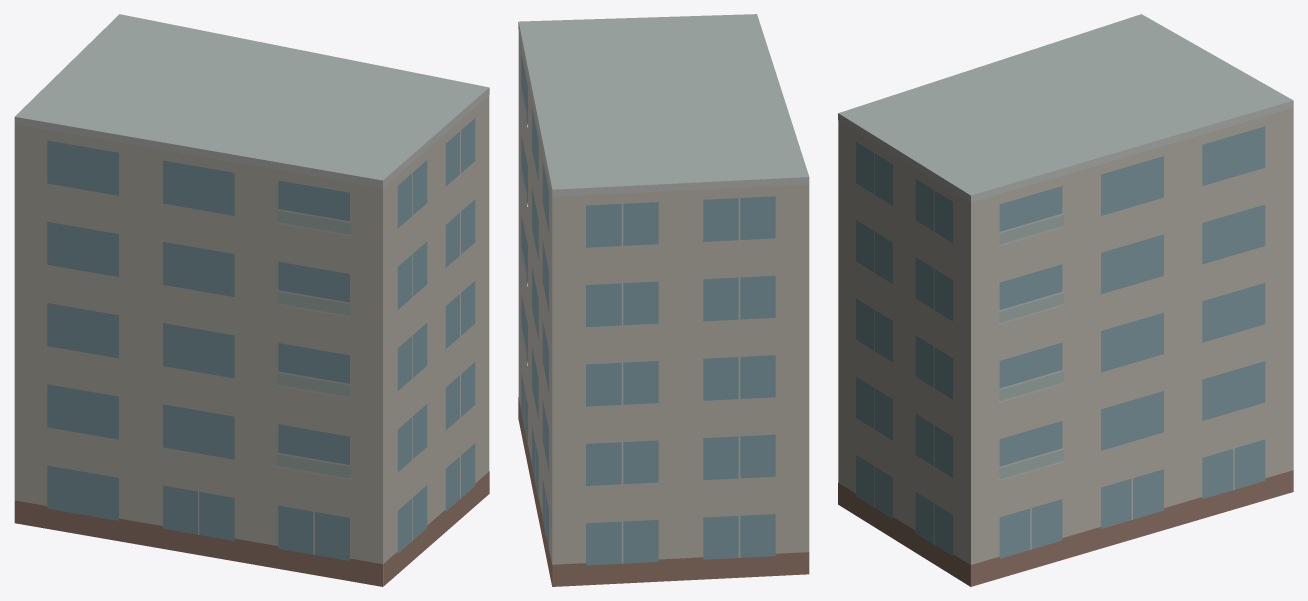
The model's file is survey-upis-32745763.glb.
3 renders of one model, left to right at view 1: azimuth 30°, elevation 25°; view 2: azimuth 150°, elevation 25°; view 3: azimuth 270°, elevation 25°, orthographic. The views are drawn at different scales.
Parts seen in each view (by area): view 1: survey-upis-32745763.tmp; view 2: survey-upis-32745763.tmp; view 3: survey-upis-32745763.tmp.
Part boxes in pixels (x1,y1,x2,y2): survey-upis-32745763.tmp: [14, 14, 489, 586]; survey-upis-32745763.tmp: [518, 14, 809, 586]; survey-upis-32745763.tmp: [838, 14, 1293, 586].
Bounding box in the file's own units: 13.24 × 13.3 × 14.04.
